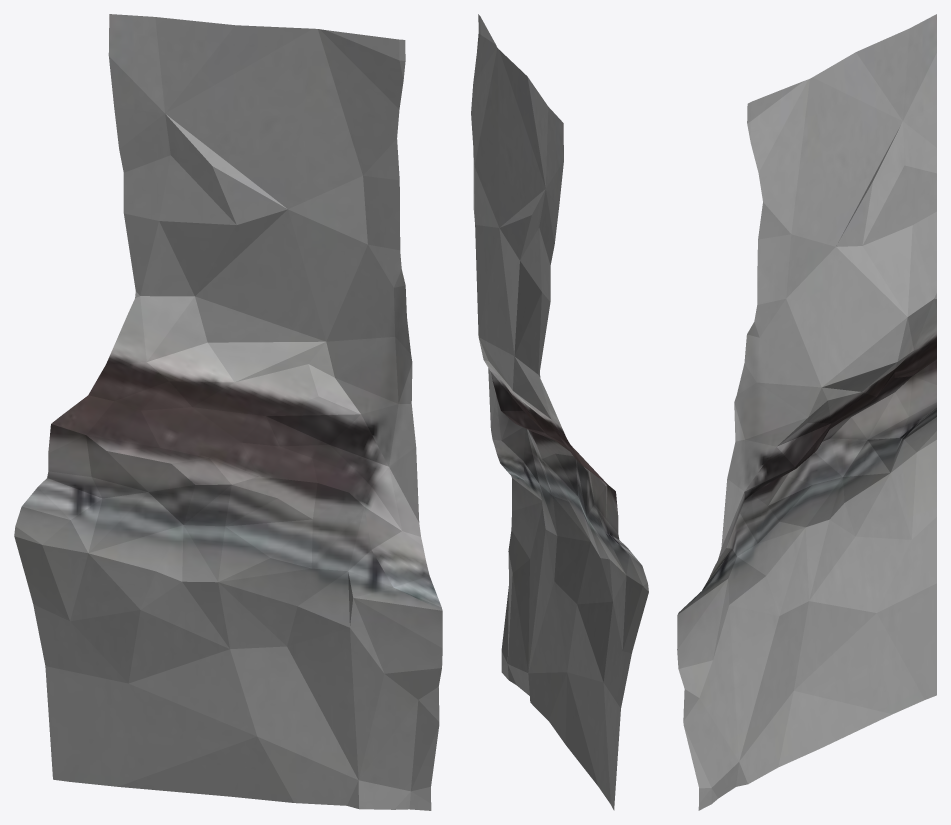
3 renders of one model, left to right at view 1: azimuth 30°, elevation 25°; view 2: azimuth 150°, elevation 25°; view 3: azimuth 270°, elevation 25°, orthographic. The views are drawn at different scales.
Bounding box in the file's own units: 0.3385 × 0.8374 × 0.2786.
Materials: 1 (1 with a texture image).
